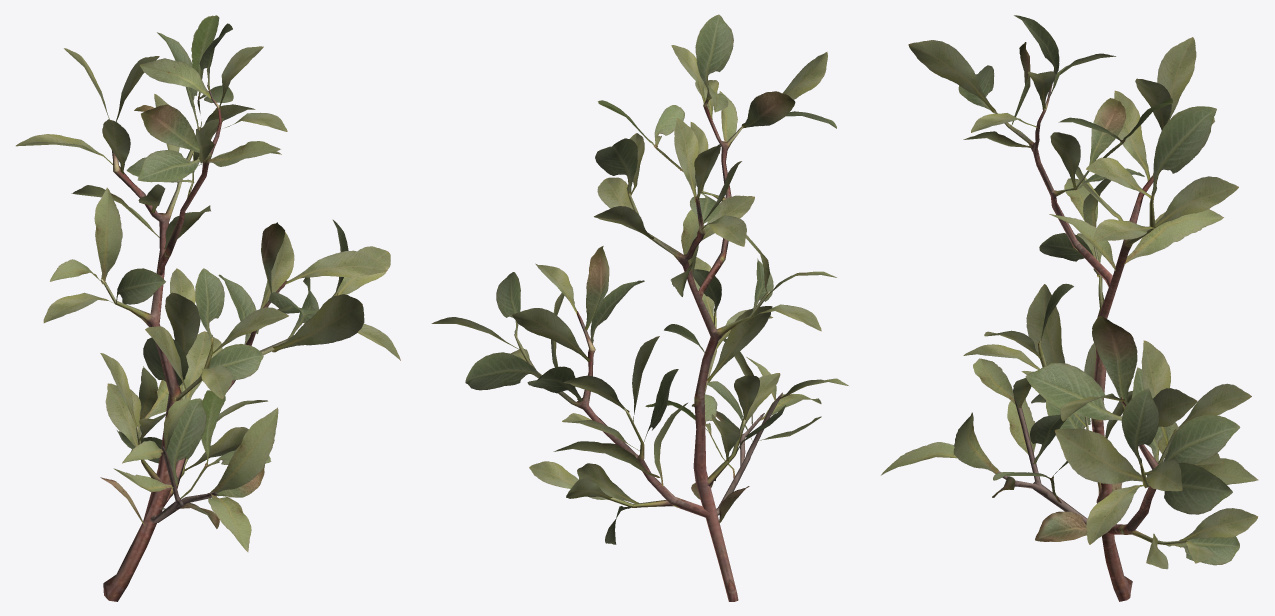
File: shrub_04_a_LOD1.glb
3 renders of one model, left to right at view 1: azimuth 30°, elevation 25°; view 2: azimuth 150°, elevation 25°; view 3: azimuth 270°, elevation 25°, orthographic. The views are drawn at different scales.
Visible parts, largest first — view 1: shrub_04_a_LOD1__lod0; view 2: shrub_04_a_LOD1__lod0; view 3: shrub_04_a_LOD1__lod0.
Part boxes in pixels (bbox=[...]): shrub_04_a_LOD1__lod0: bbox=[16, 15, 400, 601]; shrub_04_a_LOD1__lod0: bbox=[431, 14, 848, 601]; shrub_04_a_LOD1__lod0: bbox=[881, 15, 1258, 601].
Size of what is drawn, in the model's own units: 0.1359 by 0.195 by 0.1086.
1 material, 1 textured.
